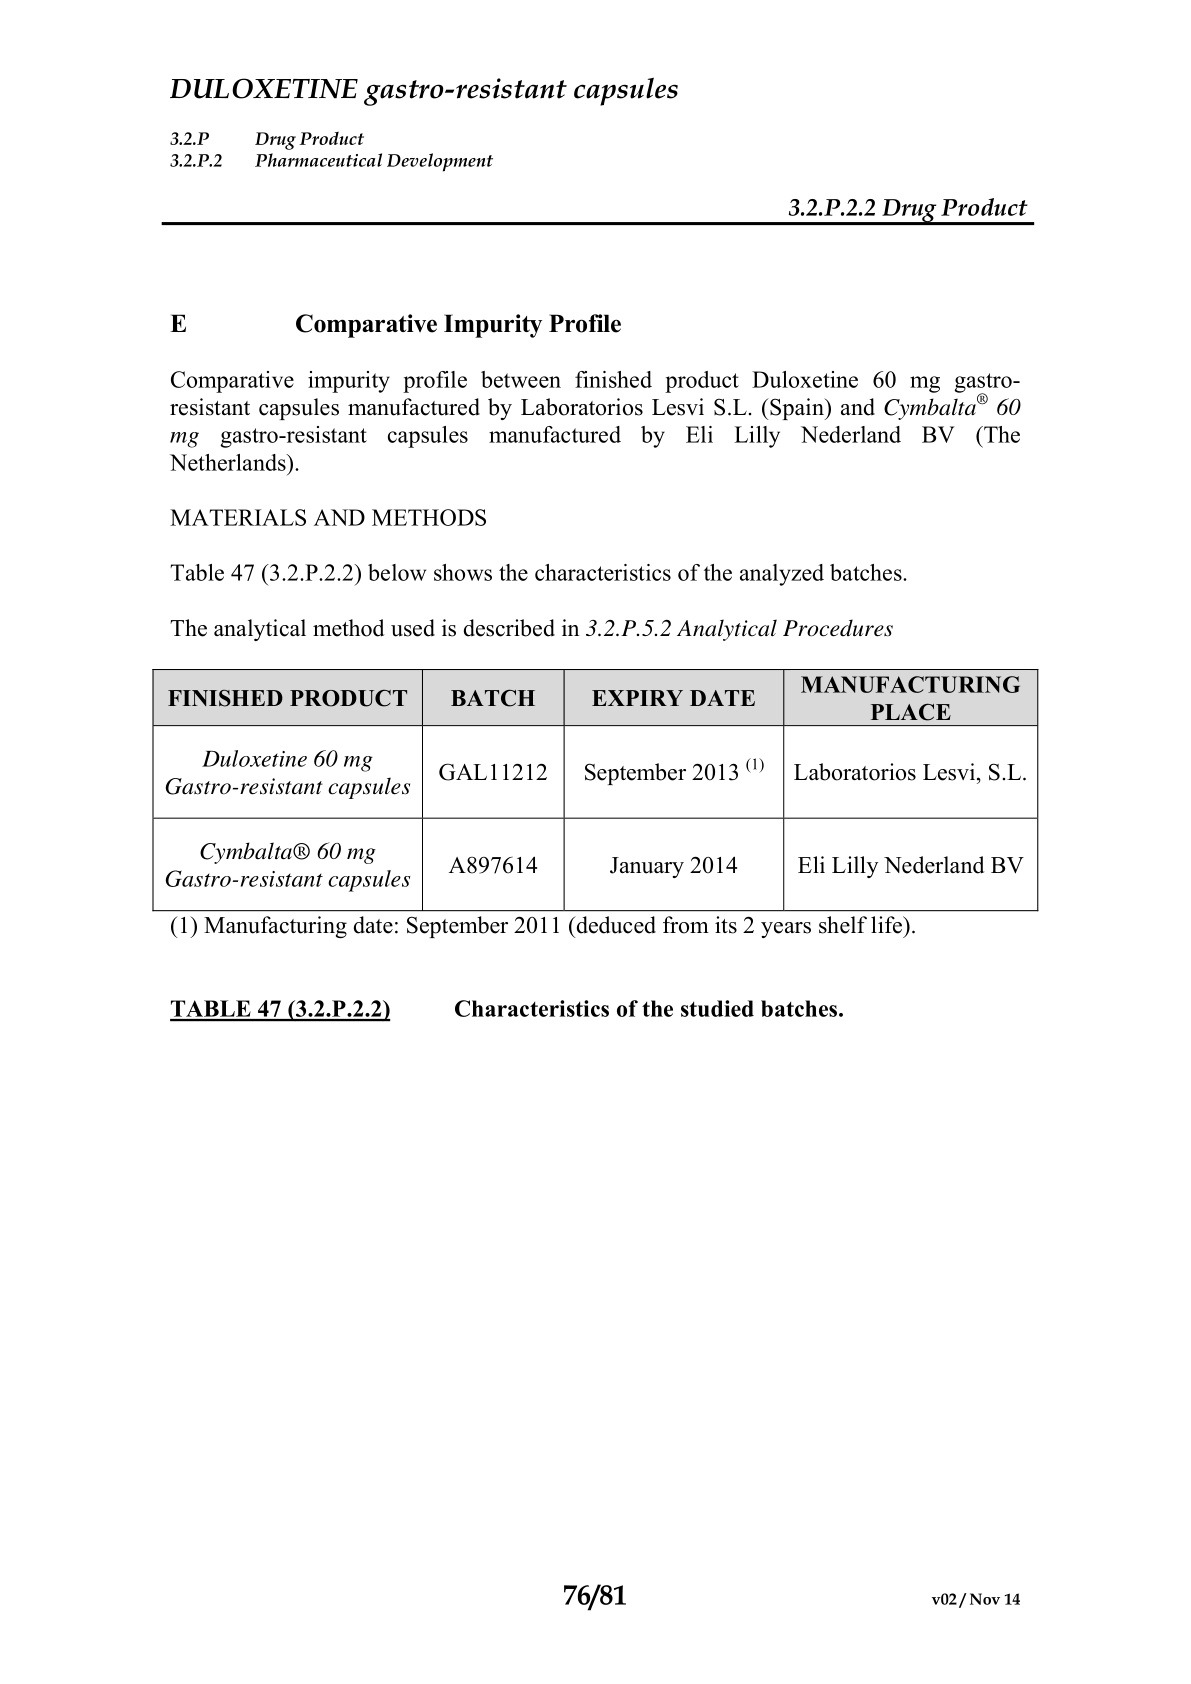full_lined: (152, 669, 1039, 912)
